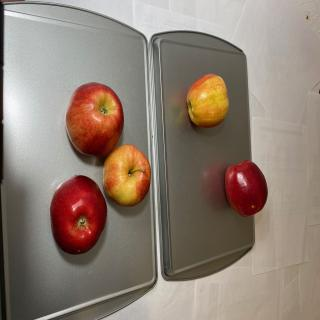Apple: (50, 174, 107, 255), (65, 82, 124, 157), (103, 144, 151, 206), (225, 160, 268, 217), (186, 73, 229, 128)
